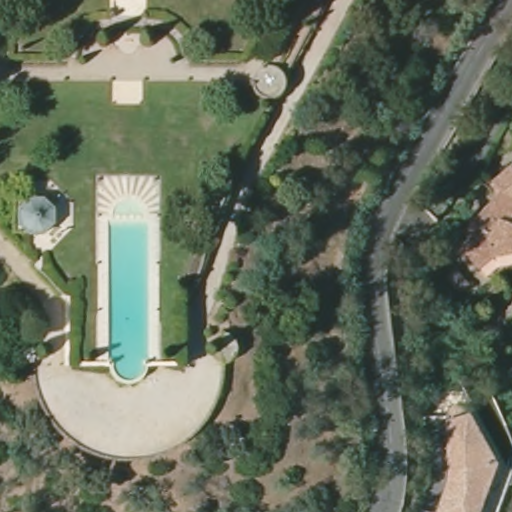pool: (101, 209, 158, 387)
